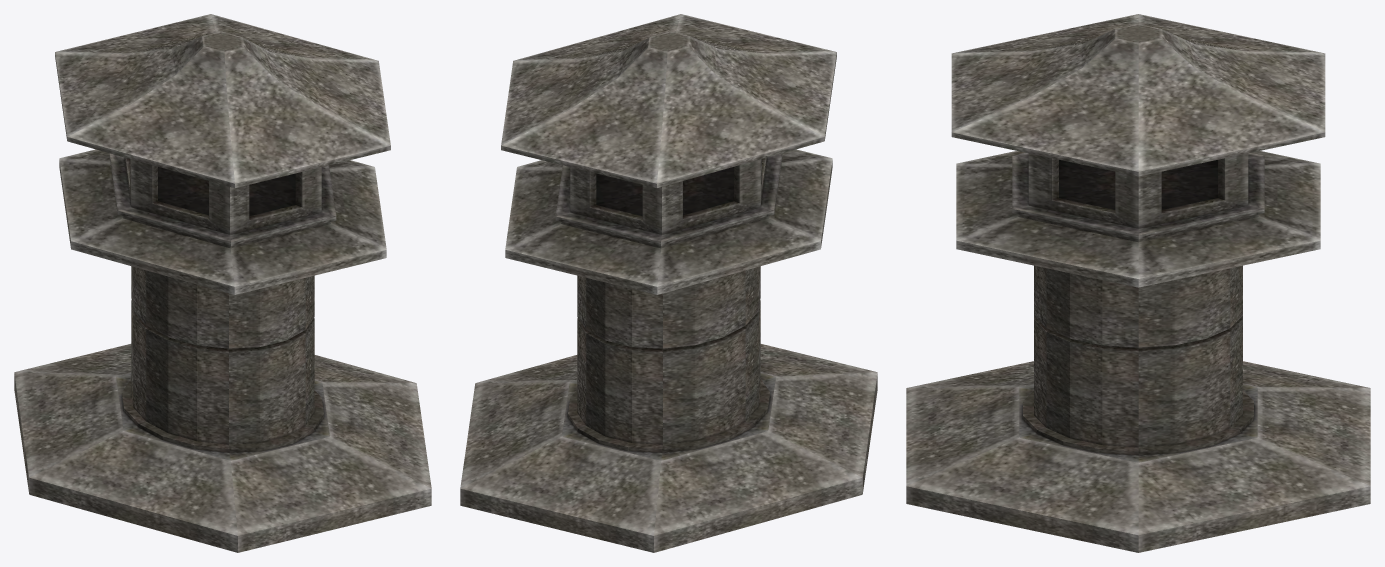
The model's file is sh-bs0-lantern.glb.
The picture shows the model from 3 angles, left to right: view 1: azimuth 30°, elevation 25°; view 2: azimuth 150°, elevation 25°; view 3: azimuth 270°, elevation 25°; orthographic projection. The views are drawn at different scales.
Visible parts, largest first — view 1: Circle.001; view 2: Circle.001; view 3: Circle.001.
Boxes of the visible parts, box(x1,y1,x2,y2) form: Circle.001: box(14, 14, 431, 552); Circle.001: box(460, 14, 877, 552); Circle.001: box(906, 14, 1370, 552).
Bounding box in the file's own units: 1 × 1 × 1.
1 material, 1 textured.
